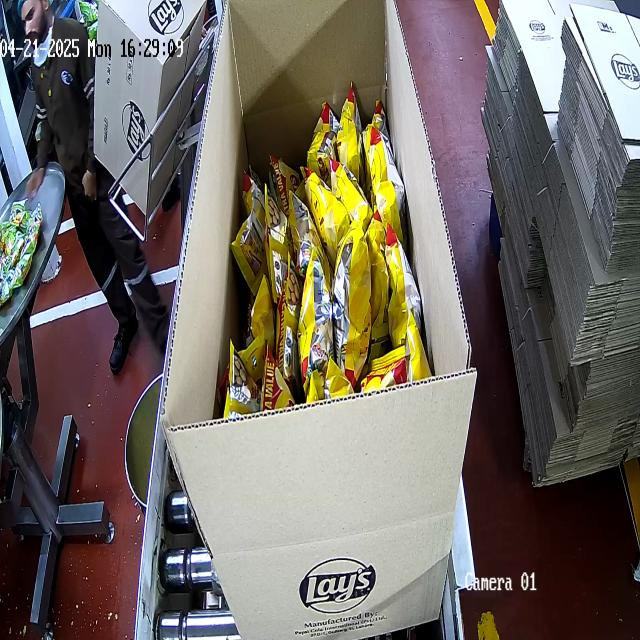SALTED: (219, 82, 430, 424)
